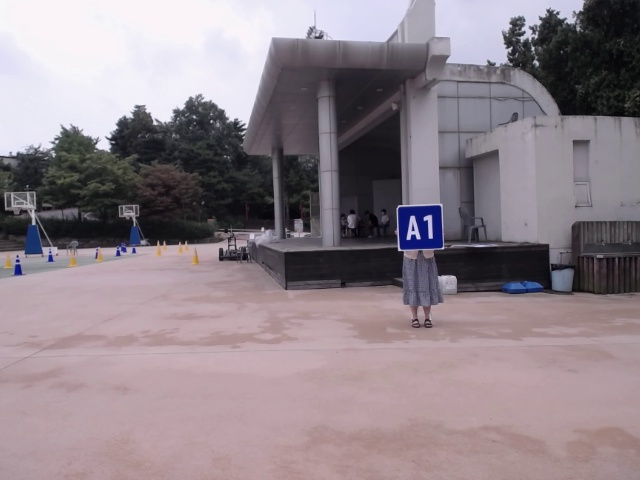delivery_a1: (397, 204, 445, 251)
